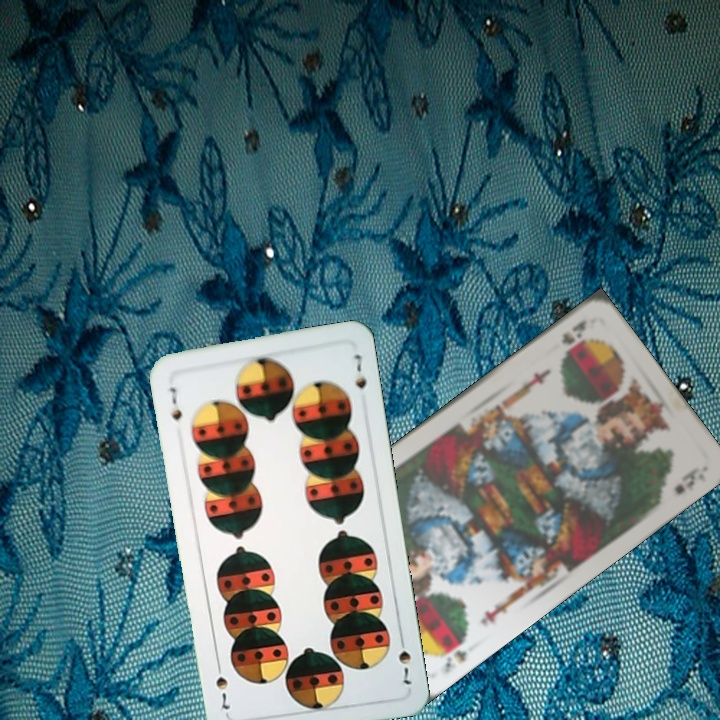S7: (394, 631, 414, 687), (165, 383, 185, 428)
SK: (431, 632, 470, 676), (557, 315, 590, 356)
